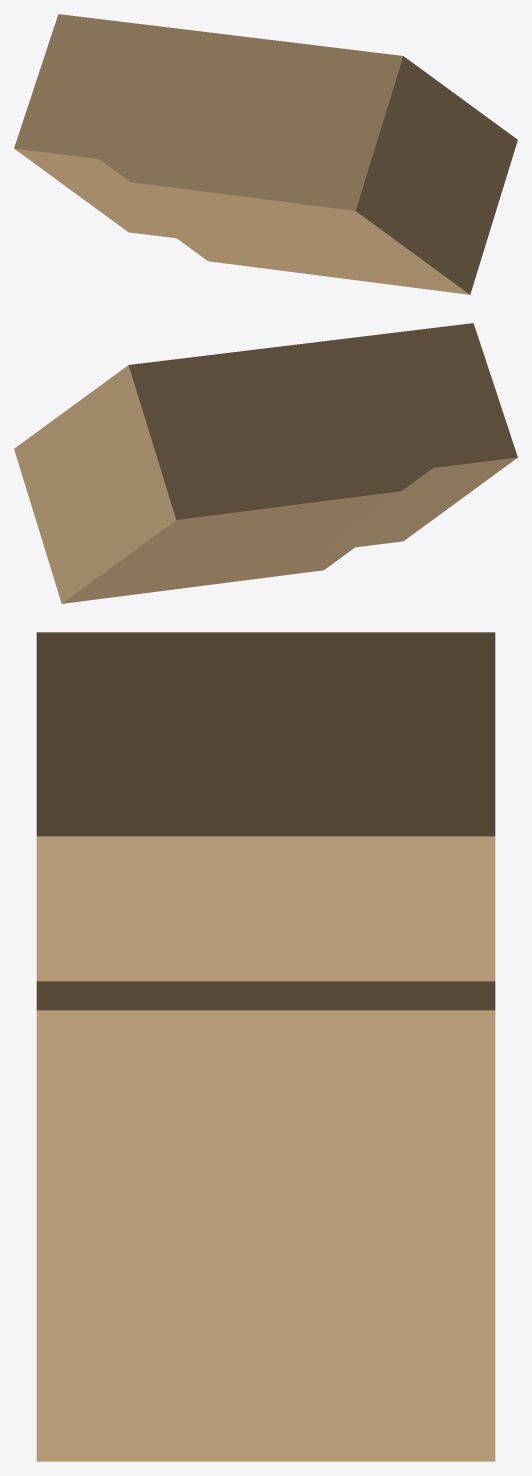
The picture shows the model from 3 angles, top to bottom: view 1: azimuth 30°, elevation 25°; view 2: azimuth 150°, elevation 25°; view 3: azimuth 270°, elevation 25°; orthographic projection. The views are drawn at different scales.
Parts seen in each view (by area): view 1: 0_0_1_3_2_1_1_1; view 2: 0_0_1_3_2_1_1_1; view 3: 0_0_1_3_2_1_1_1.
Boxes of the visible parts, left/top/right/bottom form: 0_0_1_3_2_1_1_1: left=14, top=14, right=517, bottom=294; 0_0_1_3_2_1_1_1: left=14, top=323, right=517, bottom=603; 0_0_1_3_2_1_1_1: left=36, top=632, right=495, bottom=1461.
Size of the model in its own units: 41.2 by 27.25 by 21.
